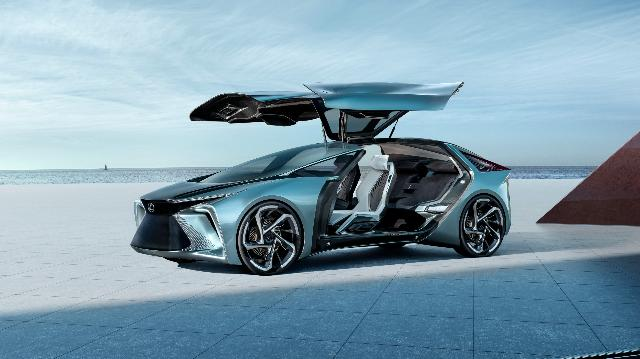lexus: (130, 82, 512, 276)
